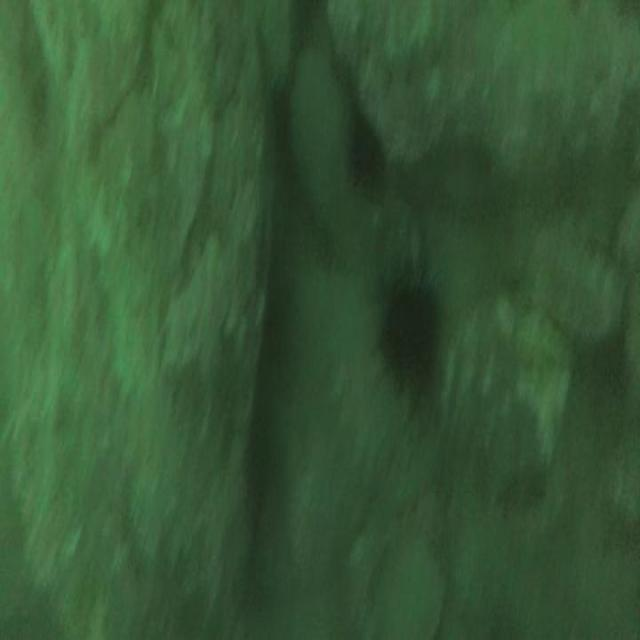echinus: (381, 284, 438, 389), (348, 114, 385, 194)
